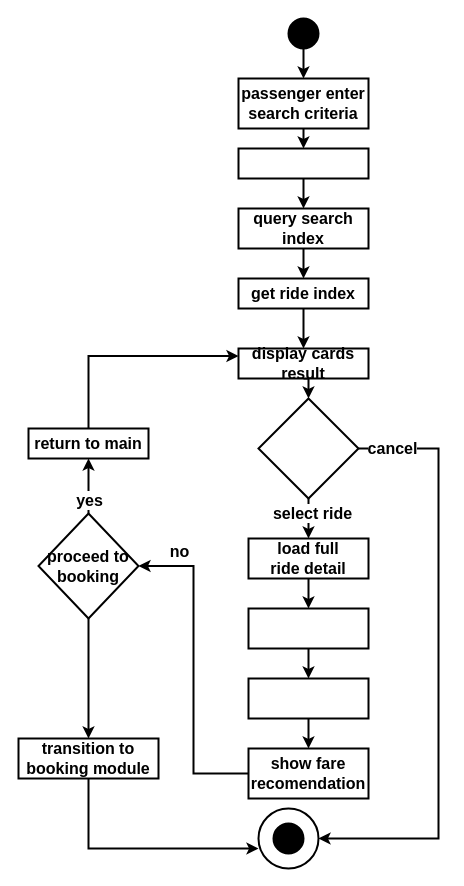
This 464x886 diagram has some shape labels left out. The shapes that lost their labels are listed below. From the top down, each one's centre as x and y in pixels, then its label:
[303,163]: apply filters
[308,448]: pasenger action
[308,628]: show route map
[308,698]: show driver and vehicle
